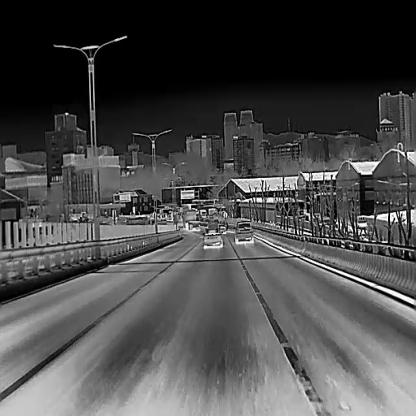car: (202, 225, 222, 247), (234, 220, 252, 240), (199, 209, 206, 216)
truck: (184, 209, 200, 229)
